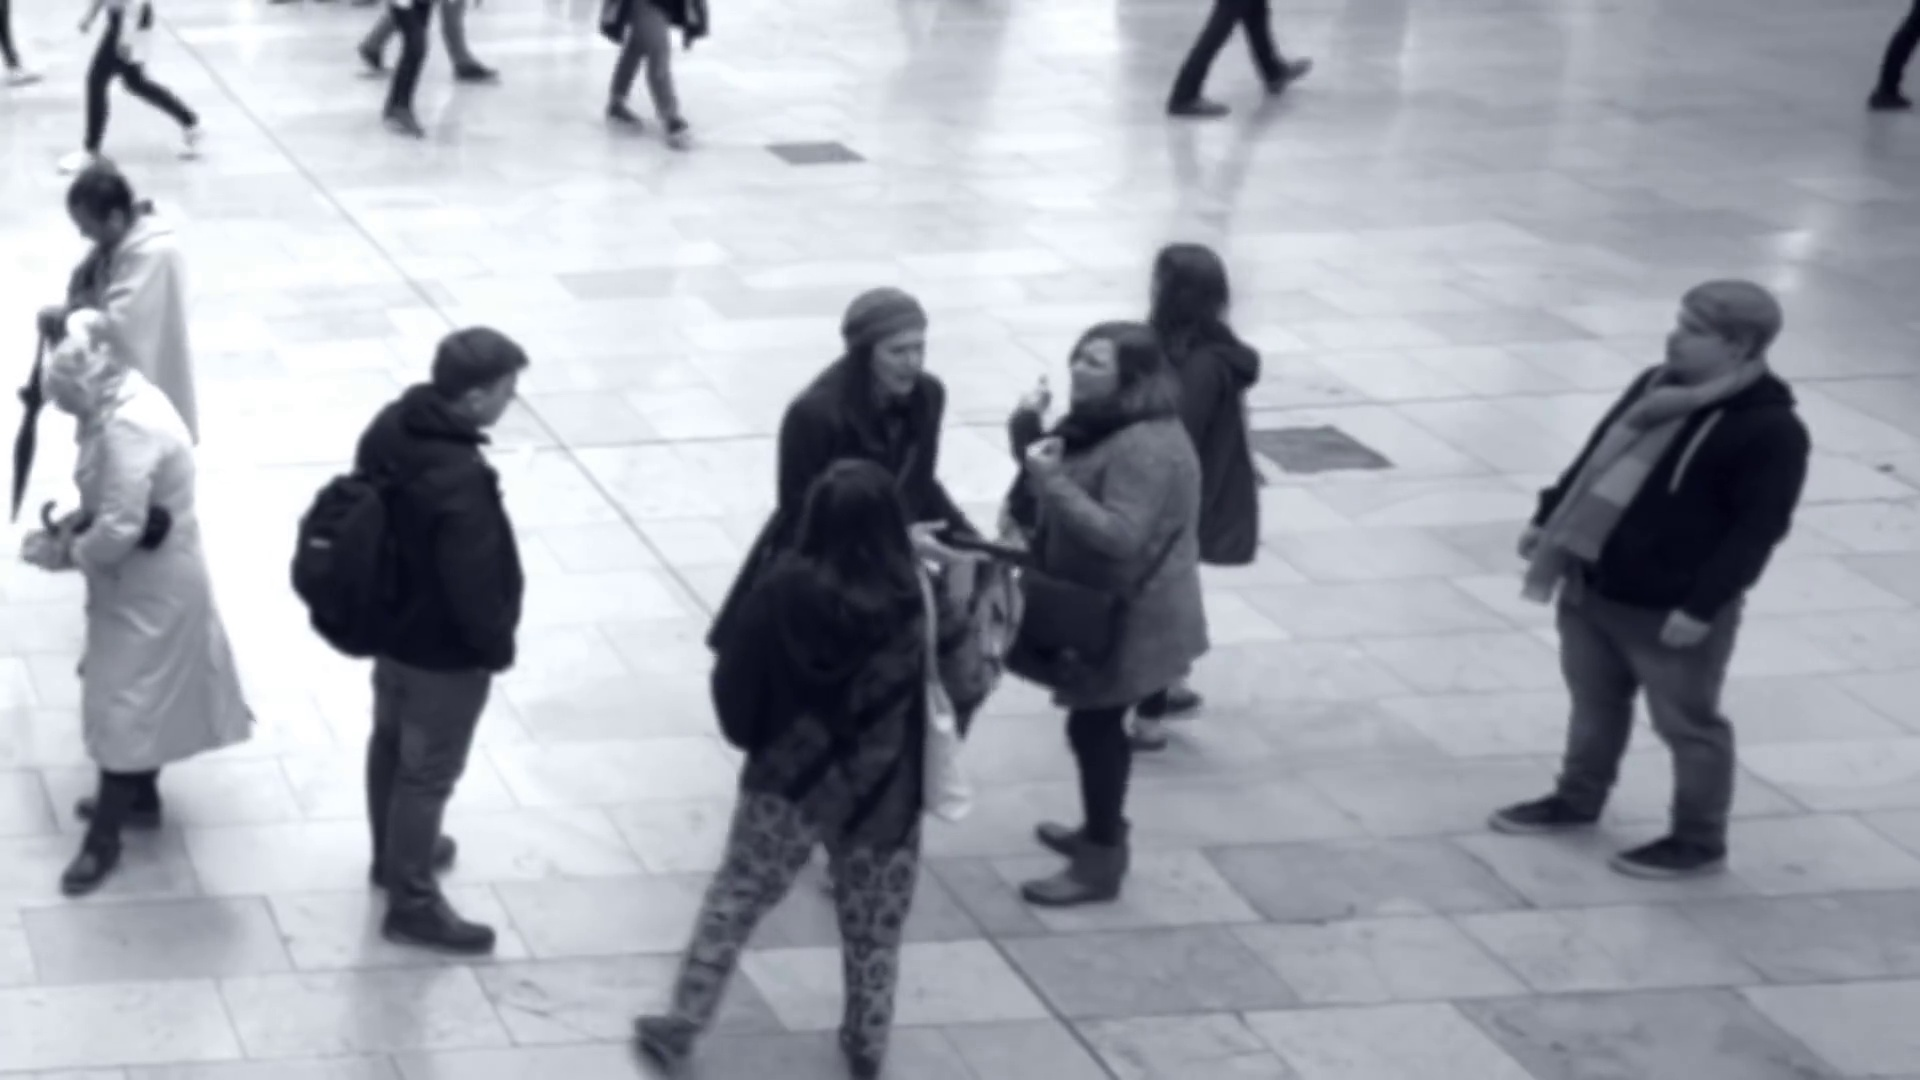face: (861, 317, 930, 399), (1662, 301, 1728, 377), (1072, 329, 1125, 411)
